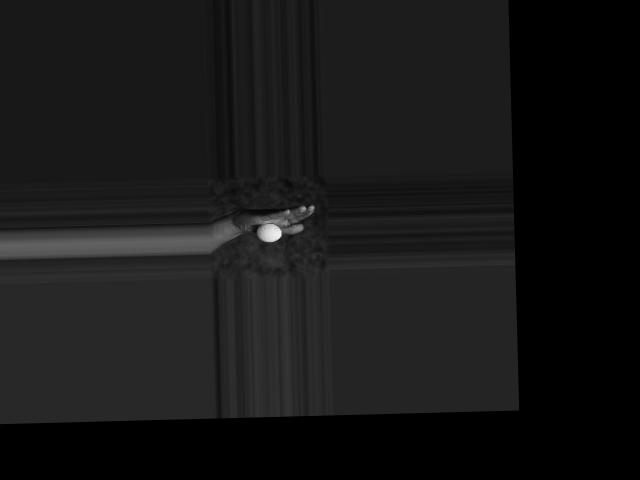egg: (256, 222, 281, 242)
